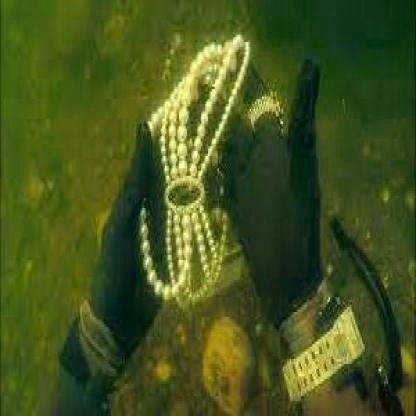misc: (143, 27, 252, 310)
